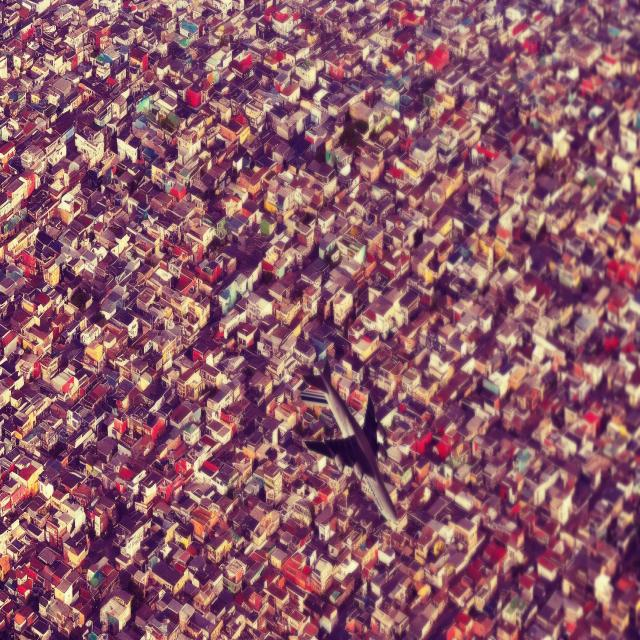airplane: (299, 358, 400, 528)
